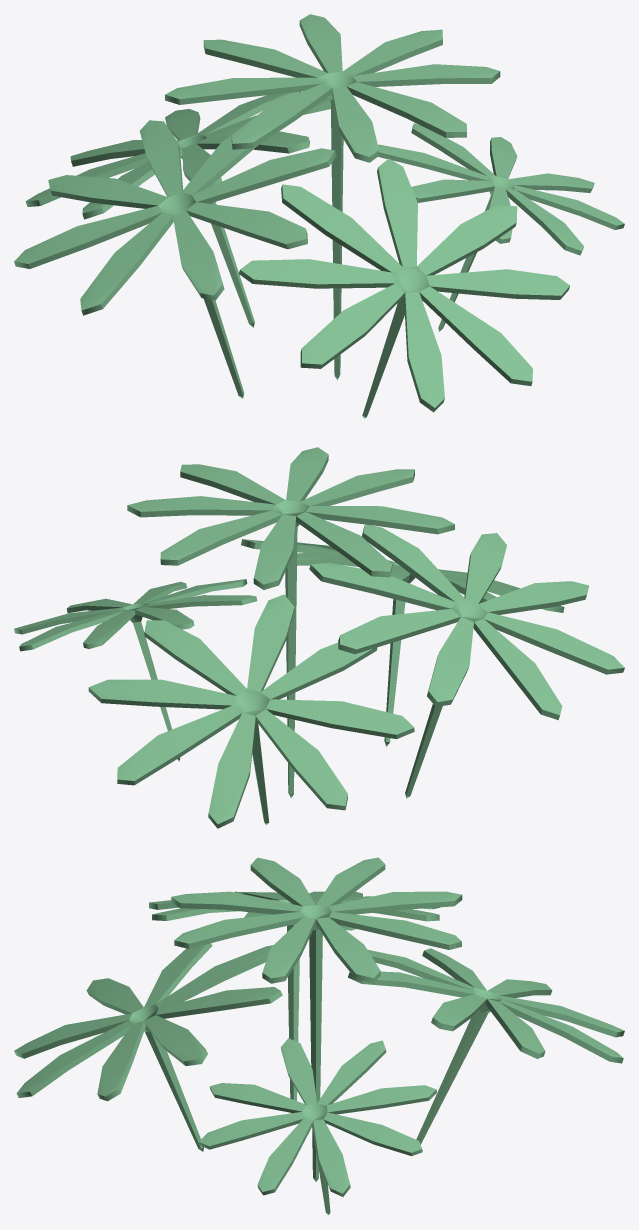
Rendered from euphorbia_laberized.fbx.
3 renders of one model, top to bottom at view 1: azimuth 30°, elevation 25°; view 2: azimuth 150°, elevation 25°; view 3: azimuth 270°, elevation 25°, orthographic. The views are drawn at different scales.
Parts seen in each view (by area): view 1: Euphorbia; view 2: Euphorbia; view 3: Euphorbia.
Boxes of the visible parts, x1,y1,x2,y2 form: Euphorbia: [14, 14, 624, 418]; Euphorbia: [14, 447, 624, 828]; Euphorbia: [14, 857, 624, 1215].
Bounding box in the file's own units: 4.98 × 2.49 × 5.1.
